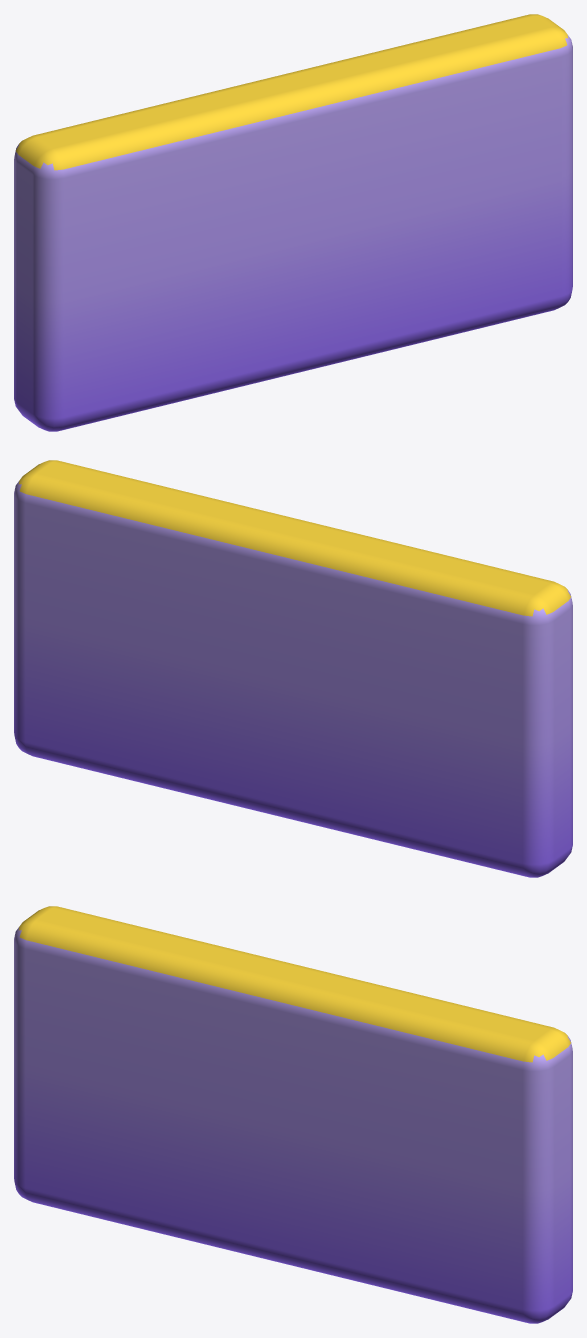
File: wall_4x2.glb
3 views of the same model, one above another, from view 1: azimuth 30°, elevation 25°; view 2: azimuth 150°, elevation 25°; view 3: azimuth 330°, elevation 25° (orthographic).
Parts seen in each view (by area): view 1: wall_4x2; view 2: wall_4x2; view 3: wall_4x2.
Part boxes in pixels (box(x1,y1,x2,y2)): wall_4x2: box(14, 14, 572, 431); wall_4x2: box(14, 460, 572, 877); wall_4x2: box(14, 906, 572, 1323).
Size of the model in its own units: 4 by 2 by 0.5.
1 material, 1 textured.
